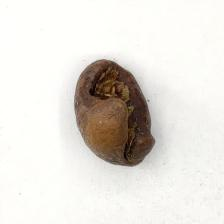NG: (86, 59, 154, 163)
